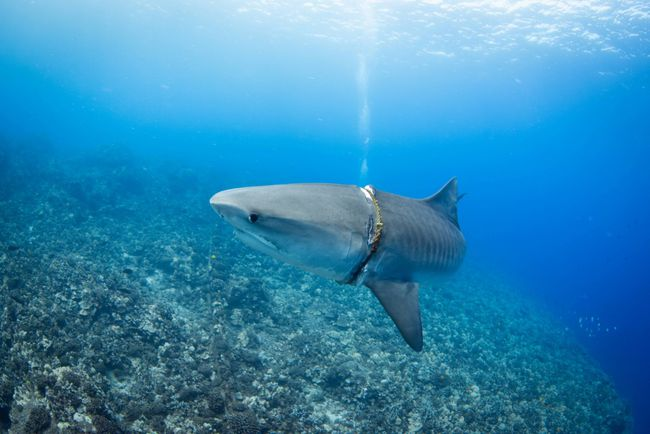shark: (198, 164, 474, 351)
